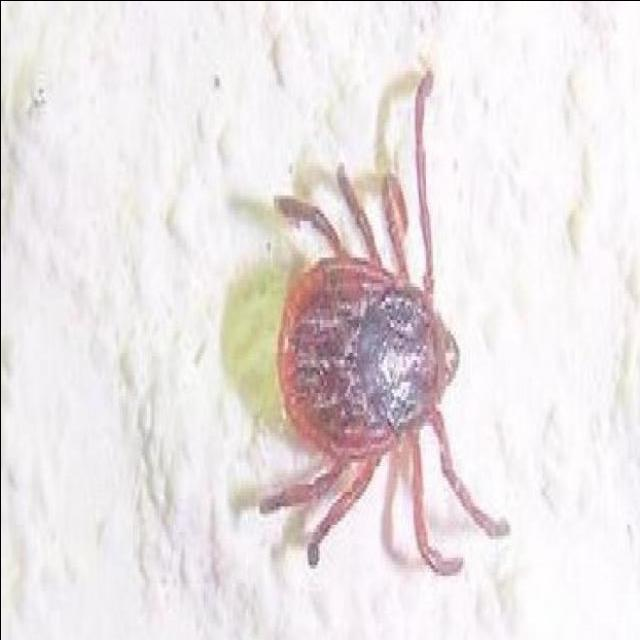Rhipicephalus Sanguineus-F: (259, 70, 511, 575)
